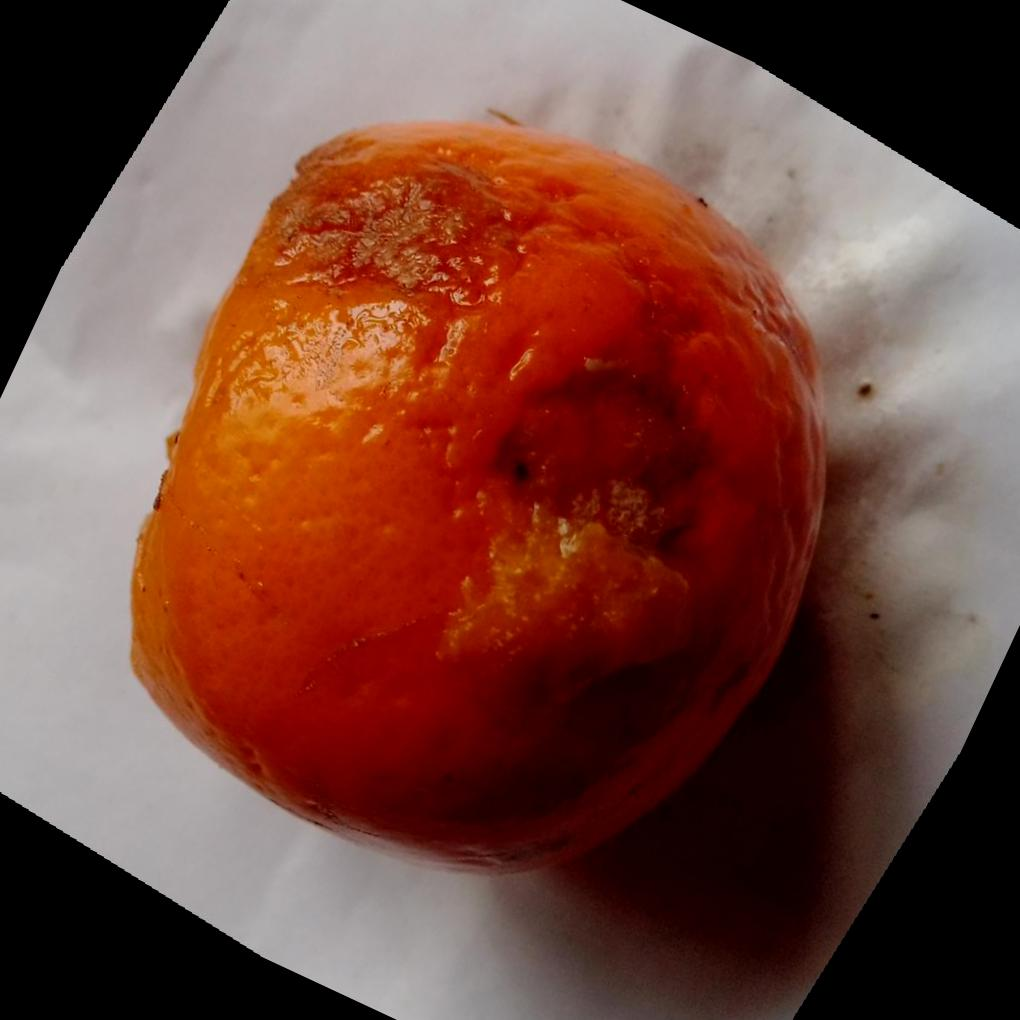FreshOrange: (130, 115, 831, 879)
